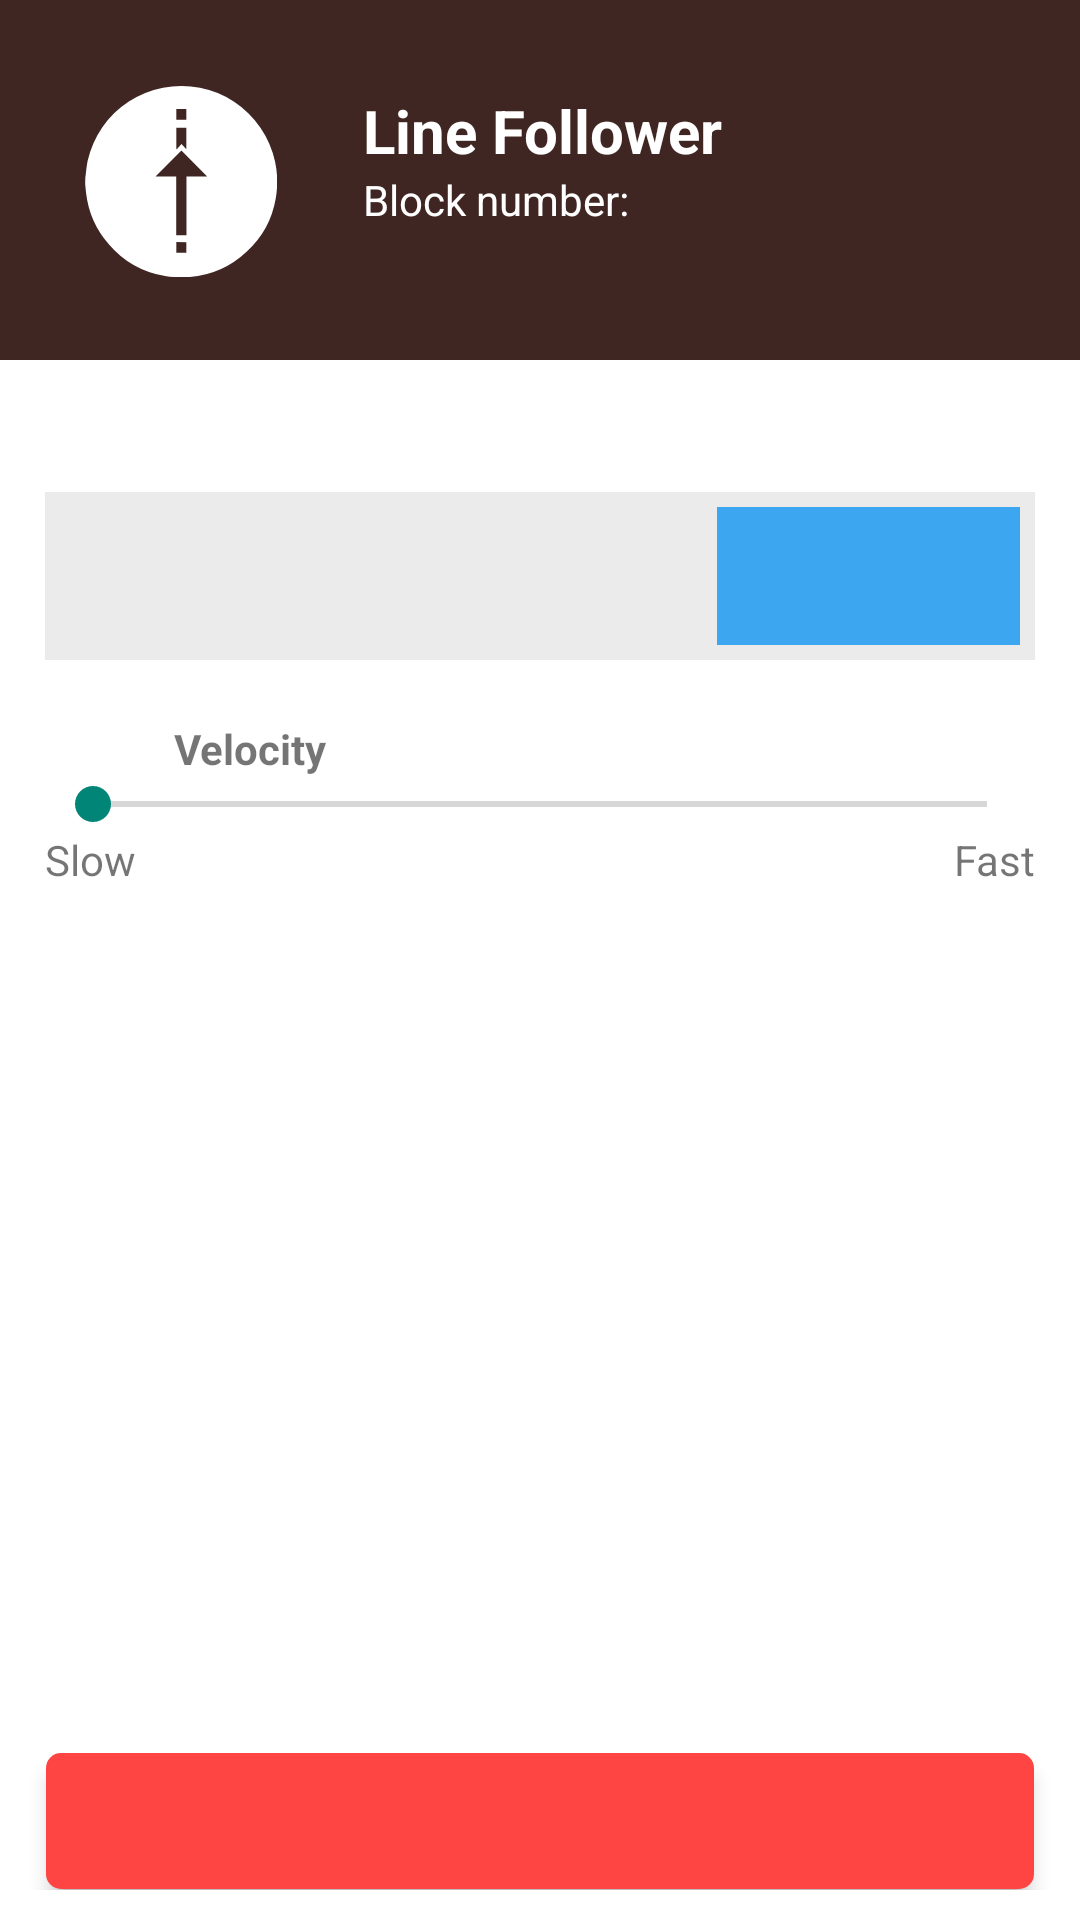

Icon bounding boxes for this 1080 × 1920 phone screenshot, format (x1=x1, y1=y1, x2=x2, y2=y2):
xlinefoll: (x1=85, y1=86, x2=277, y2=277)
